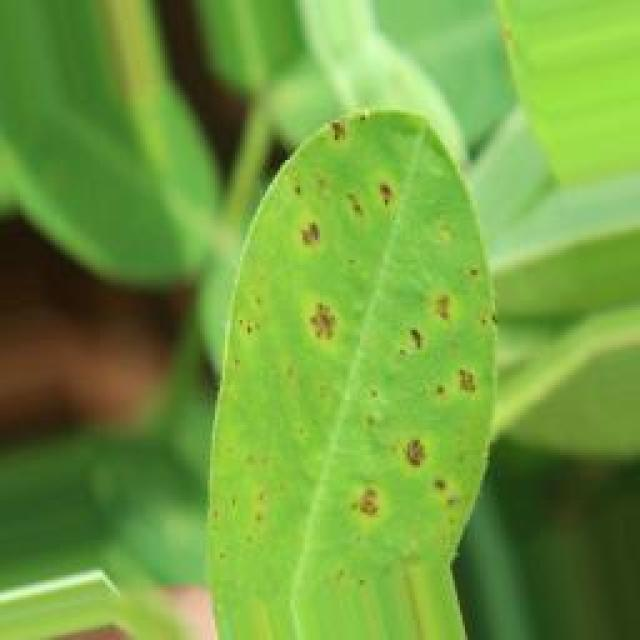Sigatoka: (302, 106, 429, 234), (258, 208, 354, 356), (311, 426, 444, 525), (410, 283, 510, 412)
